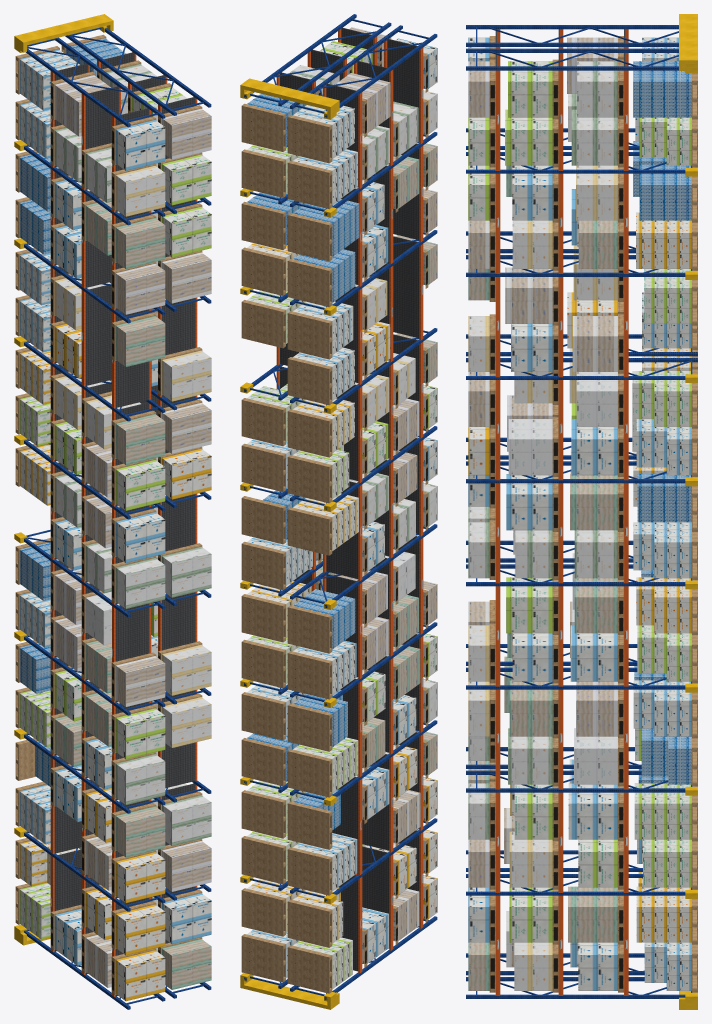
The model's file is racks_e3_s.gltf.
3 views of the same model, side by side, from view 1: azimuth 30°, elevation 25°; view 2: azimuth 150°, elevation 25°; view 3: azimuth 270°, elevation 25° (orthographic). The views are drawn at different scales.
Parts seen in each view (by area): view 1: racks_e3_s; view 2: racks_e3_s; view 3: racks_e3_s.
Boxes of the visible parts, x1,y1,x2,y2 form: racks_e3_s: (14, 14, 211, 1009); racks_e3_s: (240, 14, 437, 1009); racks_e3_s: (466, 14, 697, 1009).
Size of the model in its own units: 2.6 by 24.86 by 5.5.
Materials: 18 (18 with a texture image).
